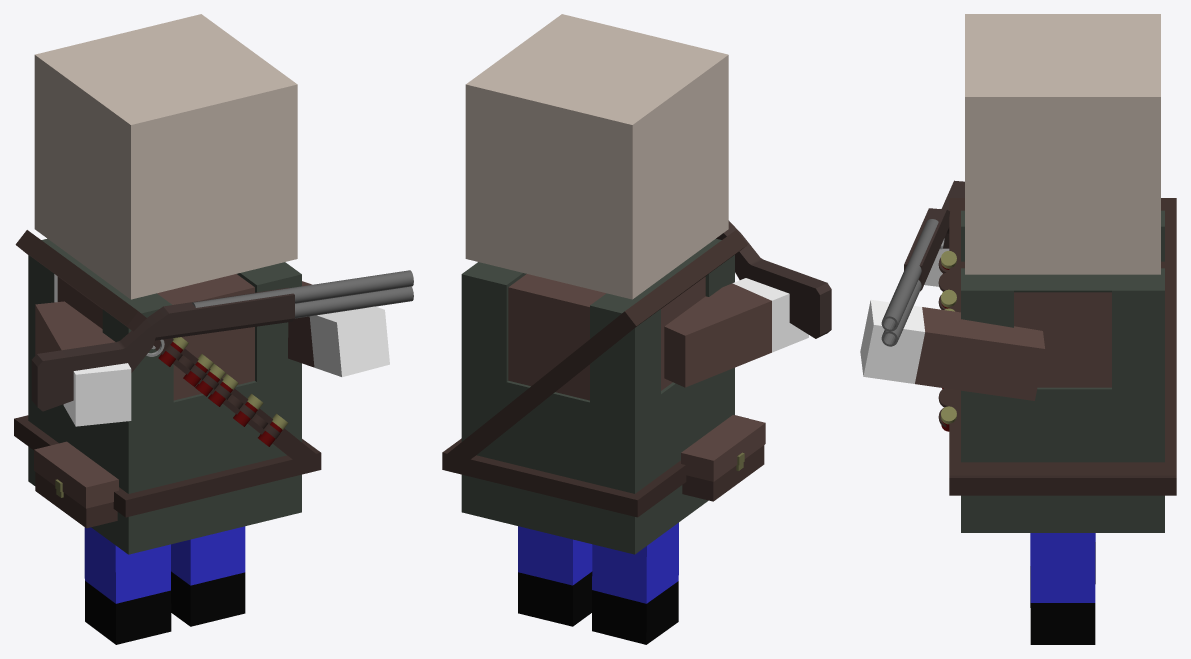
File: Cacciatore.fbx
3 renders of one model, left to right at view 1: azimuth 30°, elevation 25°; view 2: azimuth 150°, elevation 25°; view 3: azimuth 270°, elevation 25°, orthographic.
Parts seen in each view (by area): view 1: Testa_Cacciatore, Busto_Cacciatore, Fucile_Cacciatore, Piede_Destro_Cacciatore, Piede_Sinistro_Cacciatore, Braccio_Destro_Cacciatore, Braccio_Sinistro_Cacciatore, Cinta_Vita, Borsello_Cacciatore, Cinta_Cacciatore; view 2: Testa_Cacciatore, Busto_Cacciatore, Braccio_Destro_Cacciatore, Piede_Destro_Cacciatore, Cinta_Cacciatore, Piede_Sinistro_Cacciatore, Cinta_Vita, Borsello_Cacciatore, Fucile_Cacciatore; view 3: Testa_Cacciatore, Busto_Cacciatore, Braccio_Sinistro_Cacciatore, Cinta_Cacciatore, Piede_Sinistro_Cacciatore, Cinta_Vita, Fucile_Cacciatore.
Boxes of the visible parts, left/top/right/bottom form: Testa_Cacciatore: left=34, top=14, right=297, bottom=299; Busto_Cacciatore: left=28, top=238, right=301, bottom=554; Fucile_Cacciatore: left=31, top=270, right=413, bottom=411; Piede_Destro_Cacciatore: left=84, top=527, right=171, bottom=644; Piede_Sinistro_Cacciatore: left=171, top=526, right=245, bottom=626; Braccio_Destro_Cacciatore: left=35, top=301, right=131, bottom=426; Braccio_Sinistro_Cacciatore: left=288, top=281, right=389, bottom=377; Cinta_Vita: left=14, top=415, right=321, bottom=517; Borsello_Cacciatore: left=34, top=441, right=118, bottom=528; Cinta_Cacciatore: left=15, top=230, right=315, bottom=472; Testa_Cacciatore: left=465, top=14, right=728, bottom=299; Busto_Cacciatore: left=461, top=238, right=734, bottom=554; Braccio_Destro_Cacciatore: left=664, top=278, right=808, bottom=387; Piede_Destro_Cacciatore: left=592, top=522, right=678, bottom=644; Cinta_Cacciatore: left=442, top=230, right=747, bottom=470; Piede_Sinistro_Cacciatore: left=518, top=526, right=592, bottom=626; Cinta_Vita: left=442, top=415, right=748, bottom=517; Borsello_Cacciatore: left=681, top=415, right=765, bottom=501; Fucile_Cacciatore: left=716, top=220, right=831, bottom=338; Testa_Cacciatore: left=965, top=14, right=1160, bottom=274; Busto_Cacciatore: left=961, top=210, right=1164, bottom=532; Braccio_Sinistro_Cacciatore: left=860, top=299, right=1044, bottom=400; Cinta_Cacciatore: left=949, top=198, right=1176, bottom=475; Piede_Sinistro_Cacciatore: left=1030, top=533, right=1095, bottom=644; Cinta_Vita: left=949, top=475, right=1176, bottom=495; Fucile_Cacciatore: left=881, top=180, right=964, bottom=346.
Size of the model in its own units: 2.06 by 3.14 by 1.61.
